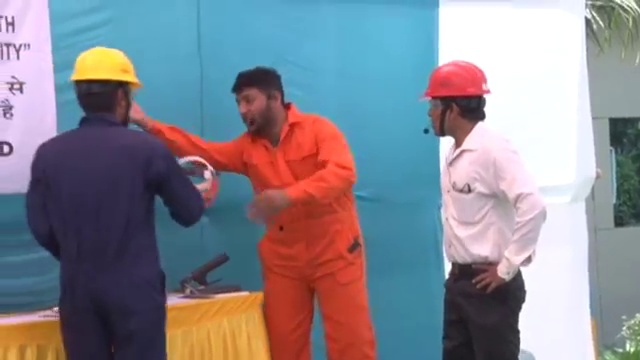helmet: (67, 43, 143, 90), (415, 58, 494, 102)
helmet_off: (228, 66, 288, 133)
helmet_on: (412, 58, 494, 141), (67, 43, 143, 128)
person: (129, 64, 375, 360), (25, 42, 206, 360), (411, 56, 548, 360)
